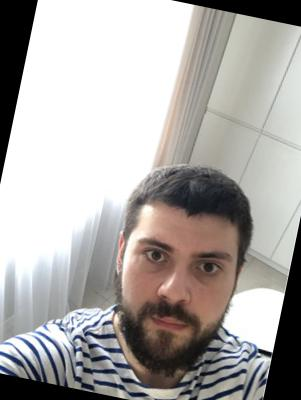without_mask: (105, 220, 244, 388)
